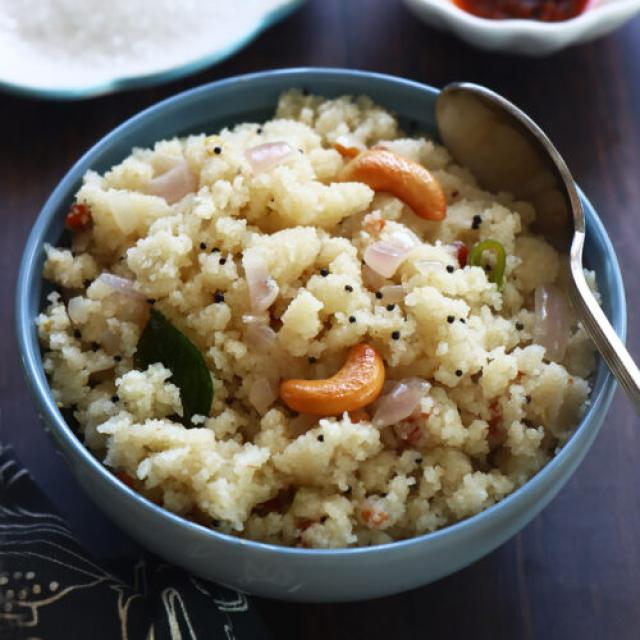upma: (28, 70, 612, 563)
